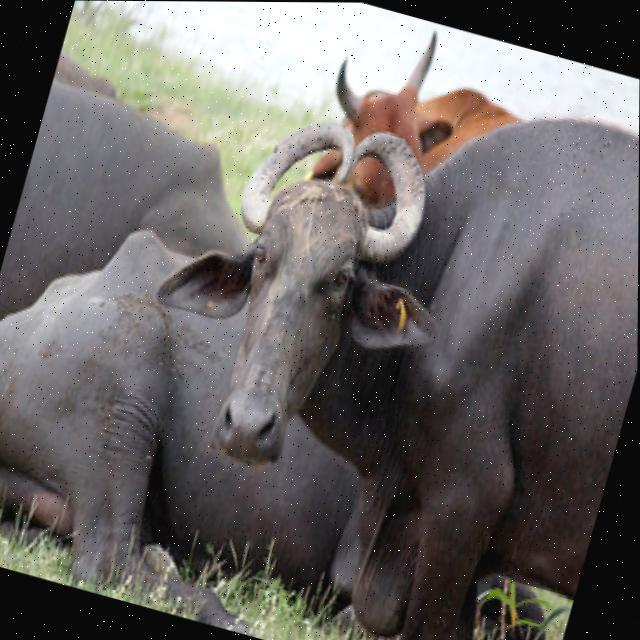Buffalo: (78, 19, 640, 640)
